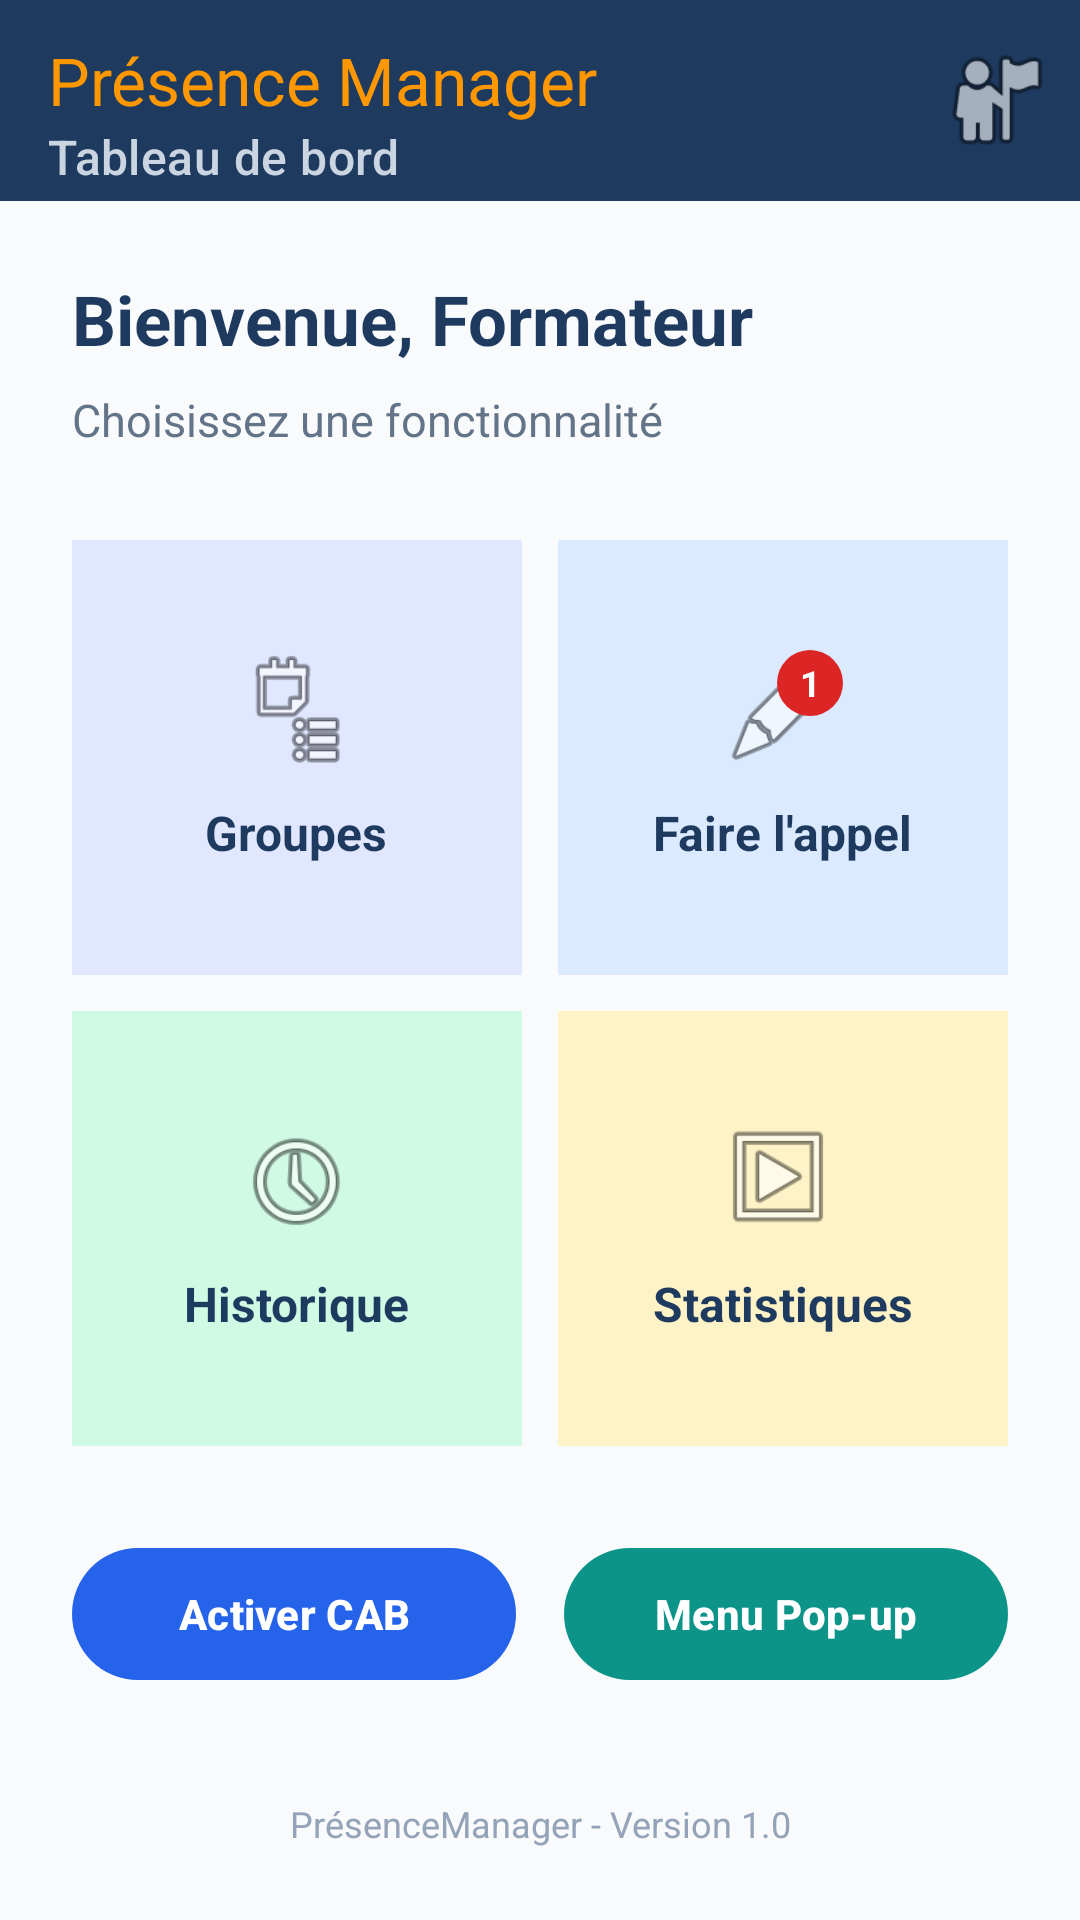

Named icons in this screenshot (1080*1920) and their centers, point (x, y):
myplaces: point (997, 100)
